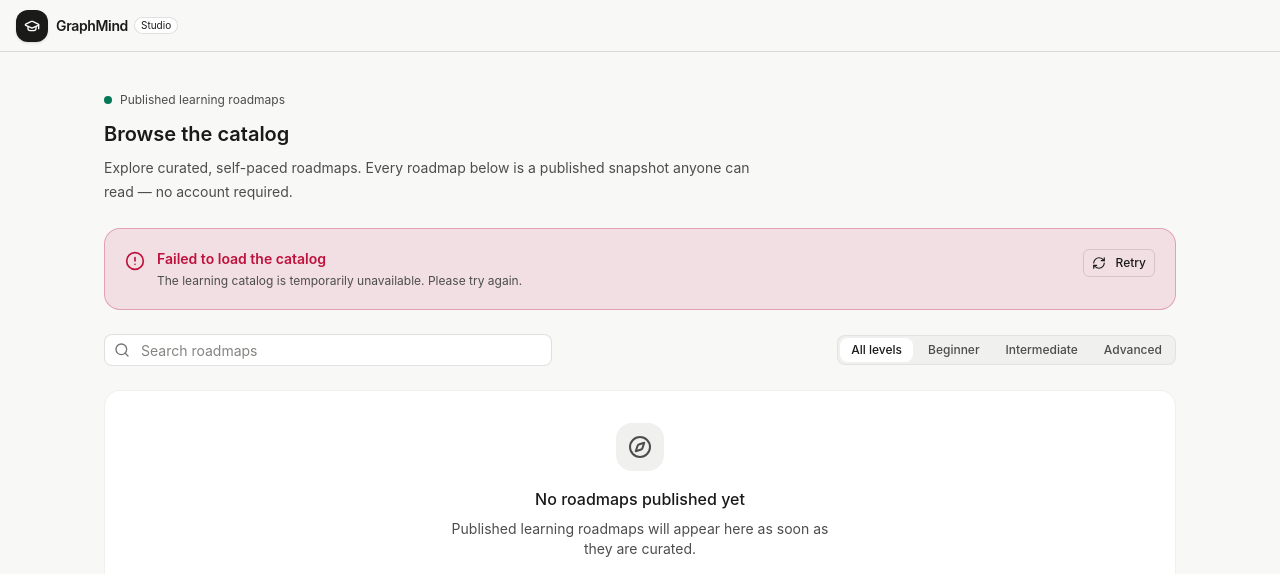
it: /learn public catalog page (LSI-029) › recovers from a transient catalog failure through retry
What coordinates should you click on to do the following:
click the button "Retry"
I would click on:
 (1119, 263)
Its box is [1082, 249, 1155, 277].
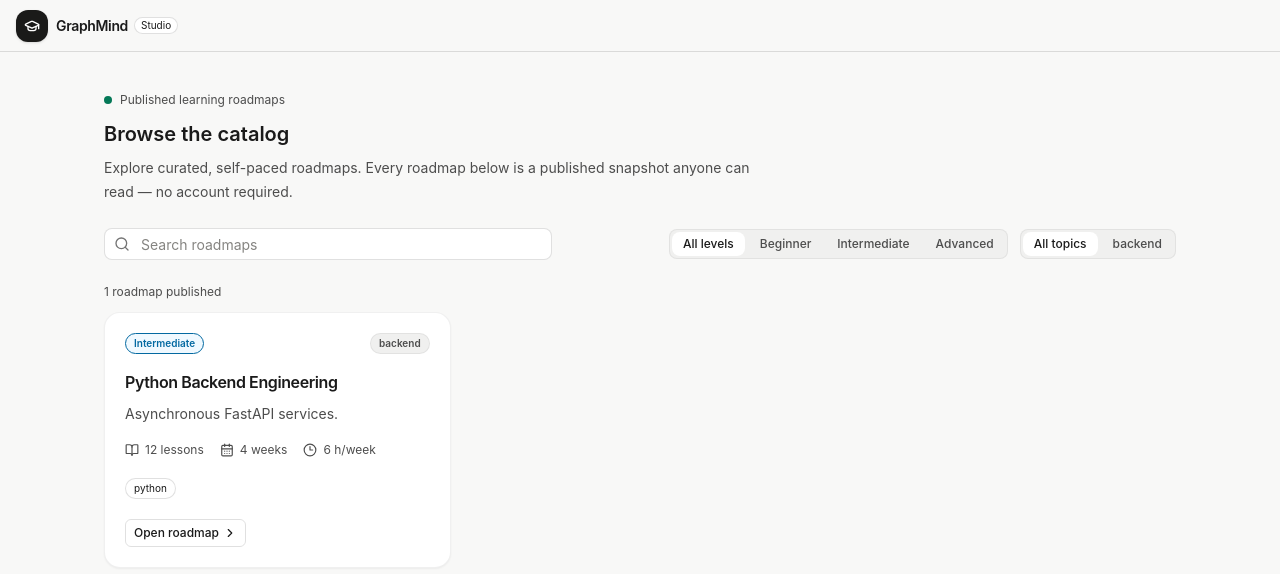
Expected: the heading "Python Backend Engineering" is shown, [125, 372, 338, 392]
Expected: the element with test id "studio-catalog-error" is gone
